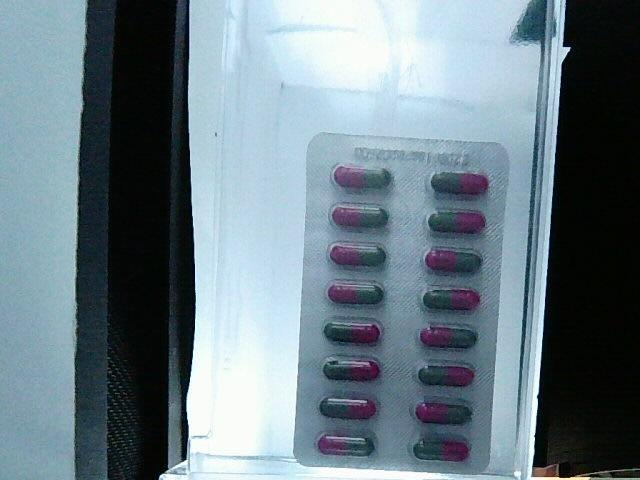Light Front: (292, 132, 510, 475)
Pill Front: (331, 158, 398, 191), (320, 352, 386, 384), (422, 244, 486, 274), (428, 169, 494, 197), (427, 206, 493, 234), (417, 319, 478, 349), (330, 237, 390, 267), (325, 275, 386, 303), (322, 315, 383, 343), (425, 282, 480, 313), (323, 392, 381, 421), (327, 200, 389, 227), (413, 435, 472, 463), (409, 400, 471, 426), (321, 430, 381, 456), (420, 361, 474, 388)
